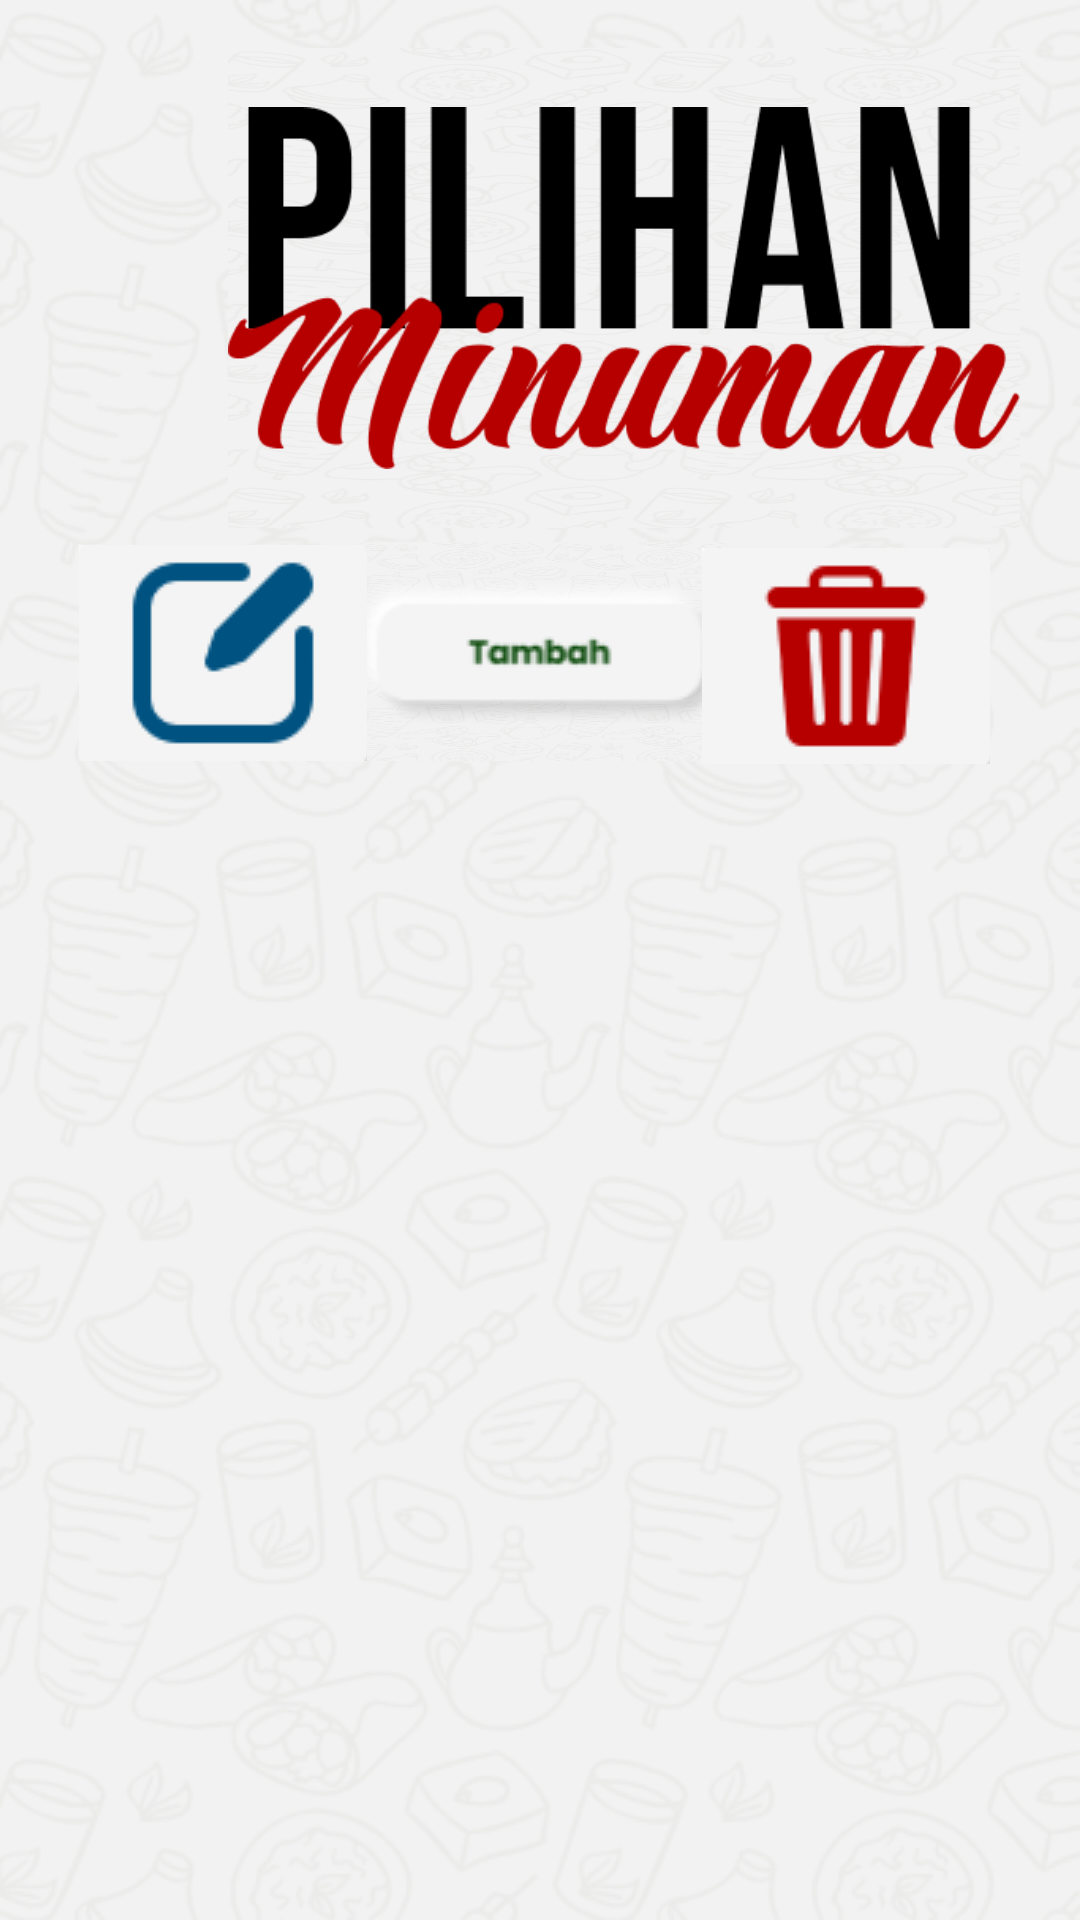

Screen size 1080w x 1920h. Icon name, then its box in pixels as Rect(x1, y1, x2, y2):
buttondeletemenu: Rect(764, 565, 990, 764)
buttoneditmenu: Rect(132, 562, 367, 761)
